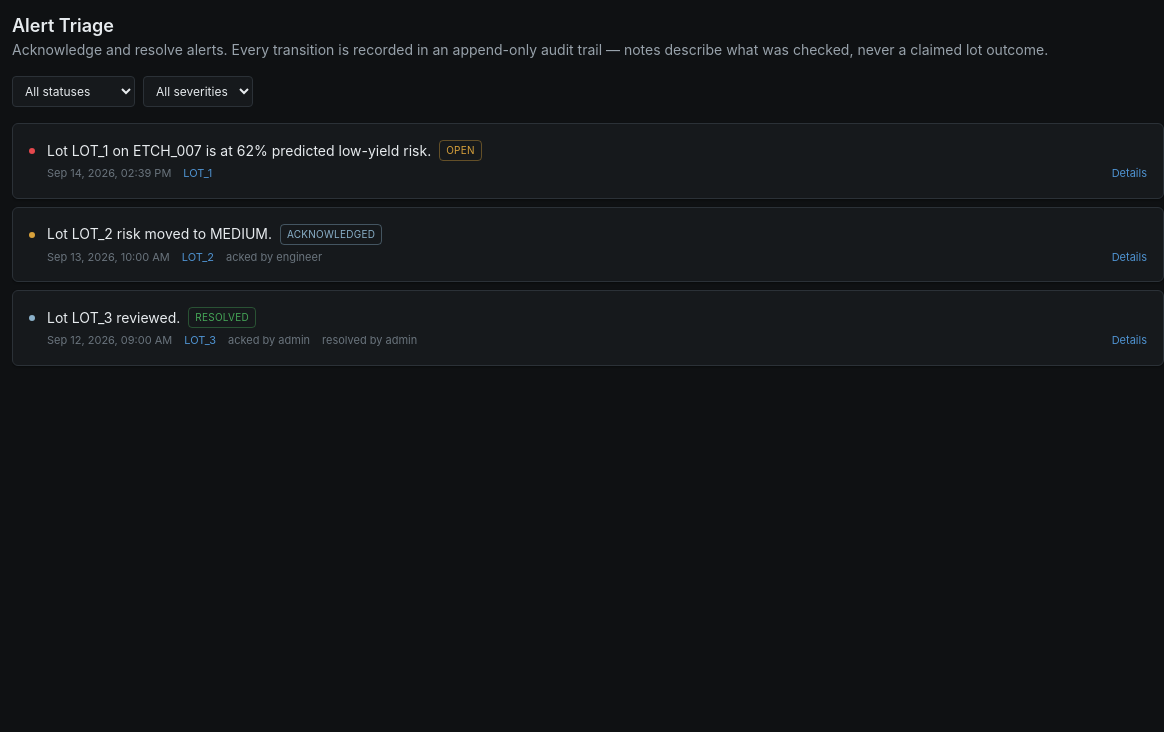
Alerts triage page (Phase 8) › offers Resolve for an acknowledged alert and a terminal notice for a resolved one
Expected: the text "Lot LOT_1 on ETCH_007 is at 62% predicted low-yield risk." is shown, [47, 140, 431, 160]
Click the button "Details" in the row of "engineer" at (1129, 257), box [1112, 248, 1147, 265]
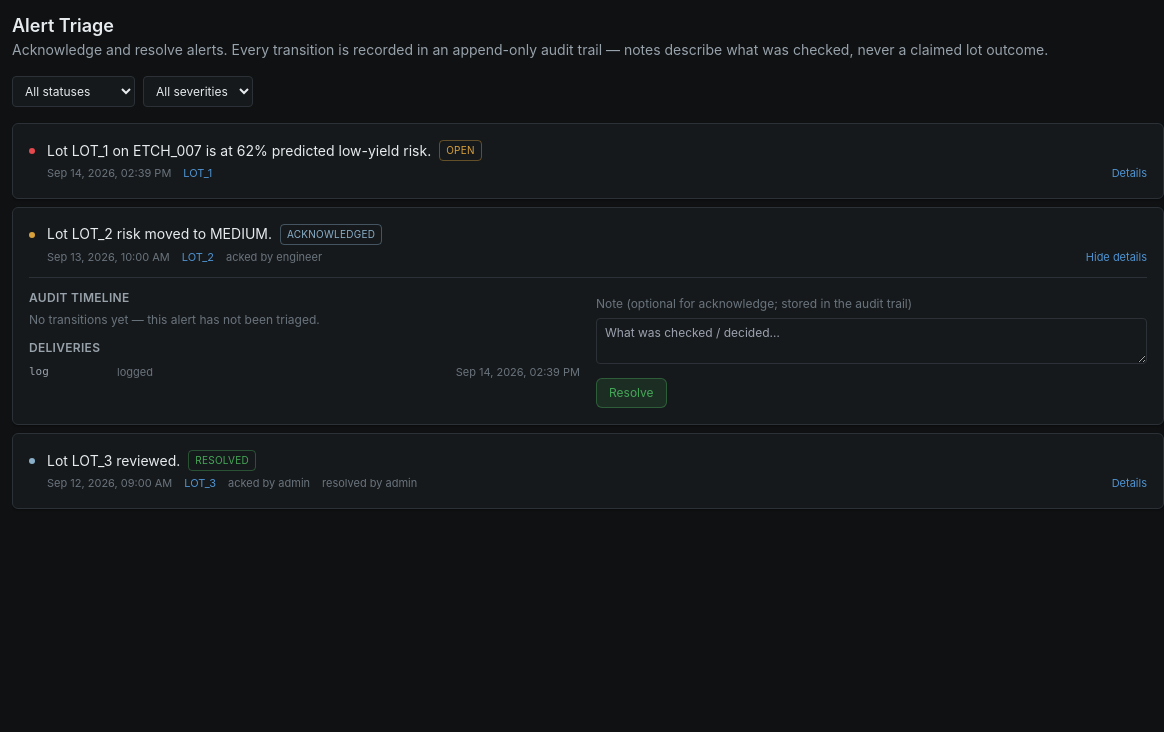
Now the button "Resolve" is shown, box [596, 378, 666, 408]
Note: expanding one row hides its "Details" button, so the remaining ones shift
Click the button "Details" in the row of "resolved by" at (1129, 483), box [1112, 475, 1147, 492]
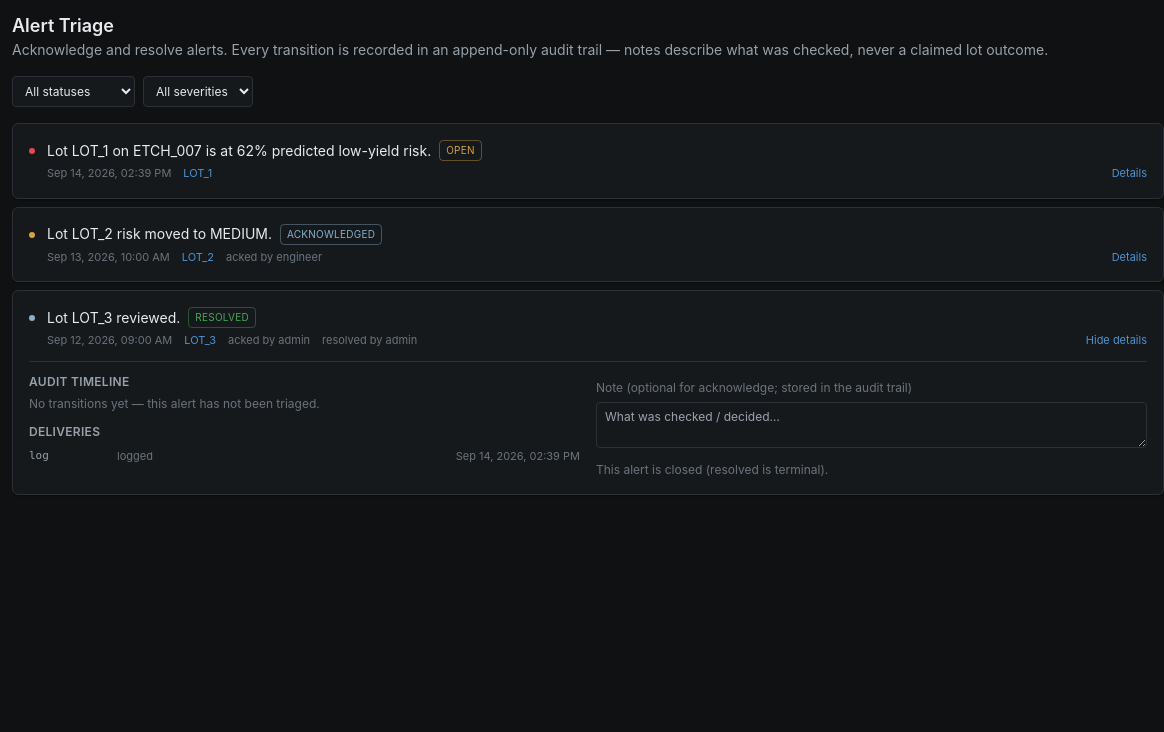
Now the text "This alert is closed (resolved is terminal)." is shown, box [596, 462, 828, 478]
